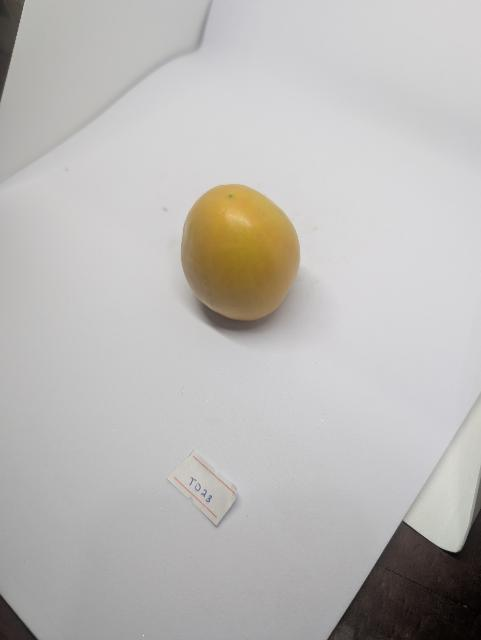turning: (171, 177, 311, 325)
